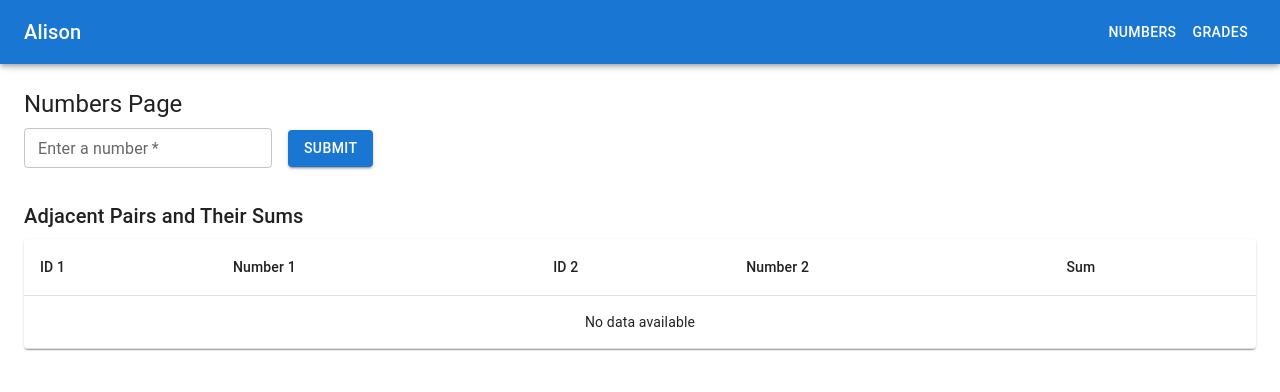
it: Page Component › shows error when submitting empty input
Click the button "Submit" at (331, 148), box [288,130,373,167]
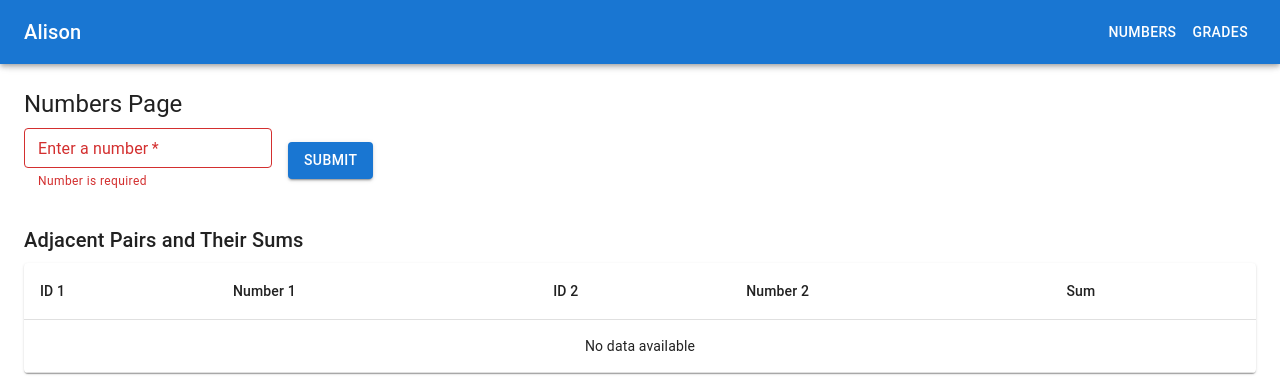
Result: the text "Number is required" is shown at [38,174,147,188]
